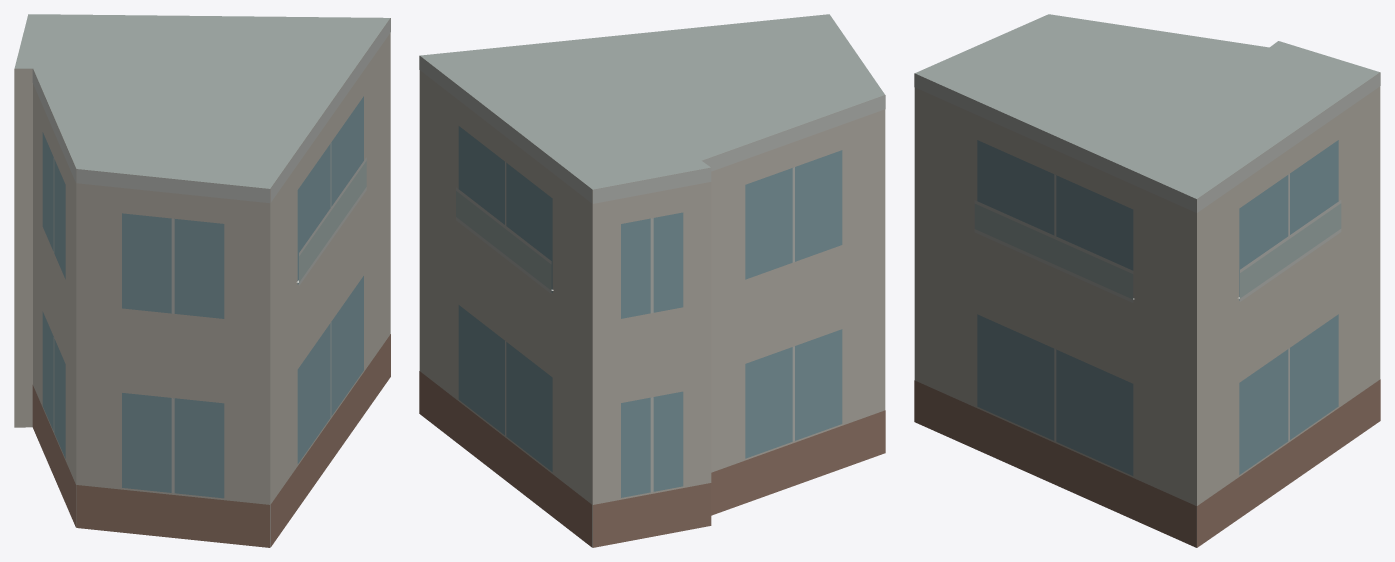
Rendered from survey-upis-32943479.glb.
The picture shows the model from 3 angles, left to right: view 1: azimuth 30°, elevation 25°; view 2: azimuth 150°, elevation 25°; view 3: azimuth 270°, elevation 25°; orthographic projection. The views are drawn at different scales.
Visible parts, largest first — view 1: survey-upis-32943479.tmp; view 2: survey-upis-32943479.tmp; view 3: survey-upis-32943479.tmp.
Part boxes in pixels (bbox=[...]): survey-upis-32943479.tmp: bbox=[14, 14, 390, 547]; survey-upis-32943479.tmp: bbox=[419, 14, 885, 547]; survey-upis-32943479.tmp: bbox=[914, 14, 1380, 547].
Size of the model in its own units: 6.95 by 6.1 by 7.39.
